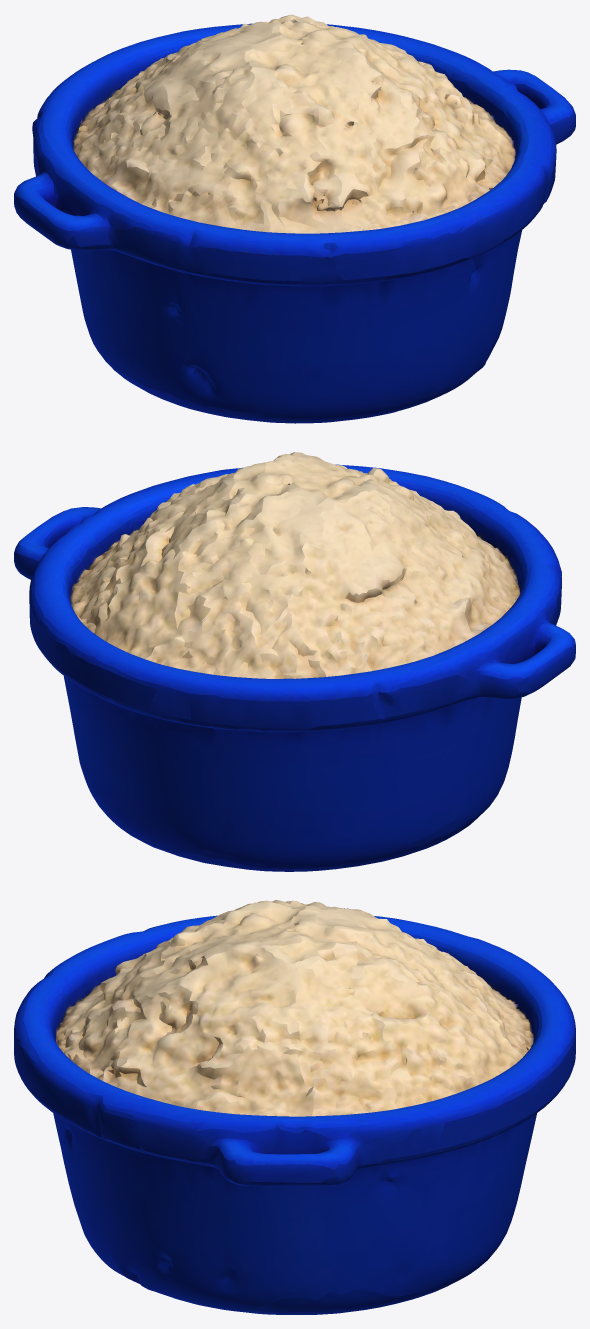
Rendered from egusi_basin.glb.
3 views of the same model, one above another, from view 1: azimuth 30°, elevation 25°; view 2: azimuth 150°, elevation 25°; view 3: azimuth 270°, elevation 25° (orthographic). The views are drawn at different scales.
Visible parts, largest first — view 1: geometry_0; view 2: geometry_0; view 3: geometry_0.
Part boxes in pixels (<box>): geometry_0: <box>14,14,575,423</box>; geometry_0: <box>14,452,575,871</box>; geometry_0: <box>14,900,575,1314</box>.
Size of the model in its own units: 0.18 by 0.1025 by 0.1655.
1 material, 1 textured.
